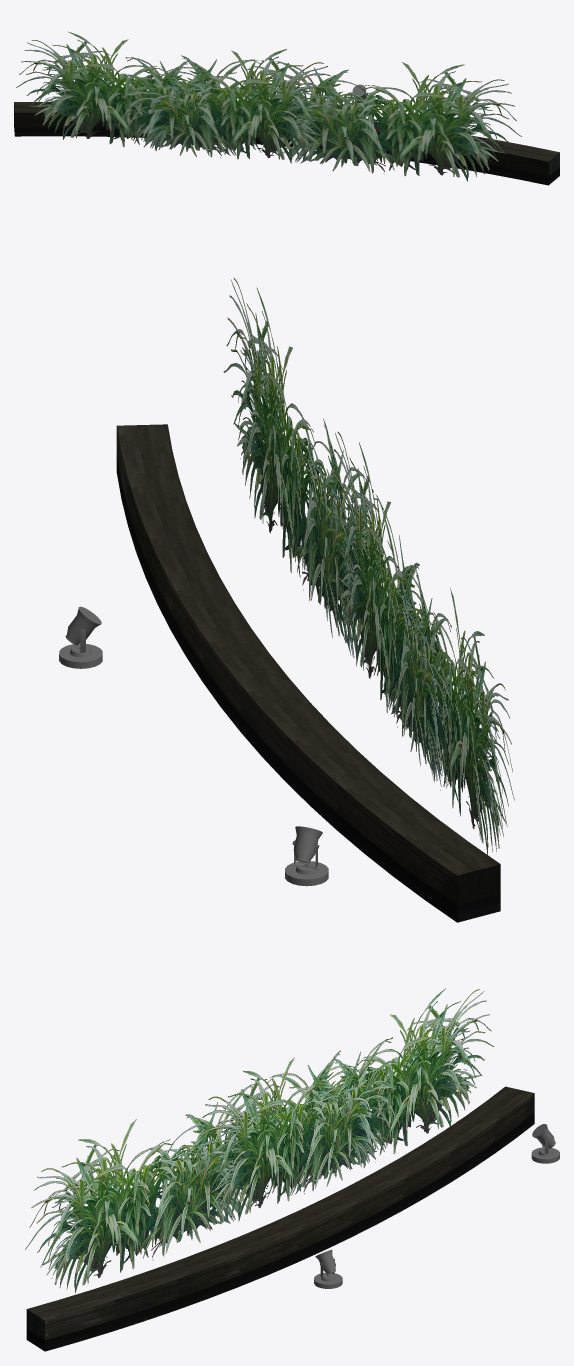
File: Arena_Bush-L.glb
3 renders of one model, top to bottom at view 1: azimuth 30°, elevation 25°; view 2: azimuth 150°, elevation 25°; view 3: azimuth 270°, elevation 25°, orthographic. The views are drawn at different scales.
Parts seen in each view (by area): view 1: 15--Bushes-L, 8--Bush_Base-L; view 2: 15--Bushes-L, 8--Bush_Base-L, 8--SpotLight06, 8--SpotLight05; view 3: 15--Bushes-L, 8--Bush_Base-L, 8--SpotLight06, 8--SpotLight05.
Boxes of the visible parts, <box> form: 15--Bushes-L: <box>16,31,521,181</box>; 8--Bush_Base-L: <box>14,102,559,185</box>; 15--Bushes-L: <box>223,278,514,854</box>; 8--Bush_Base-L: <box>116,424,500,922</box>; 8--SpotLight06: <box>285,826,328,886</box>; 8--SpotLight05: <box>59,606,102,668</box>; 15--Bushes-L: <box>25,988,494,1293</box>; 8--Bush_Base-L: <box>26,1086,534,1351</box>; 8--SpotLight06: <box>531,1124,559,1163</box>; 8--SpotLight05: <box>314,1249,342,1288</box>.
Size of the model in its own units: 6.01 by 1.95 by 5.87.
3 materials, 2 textured.
